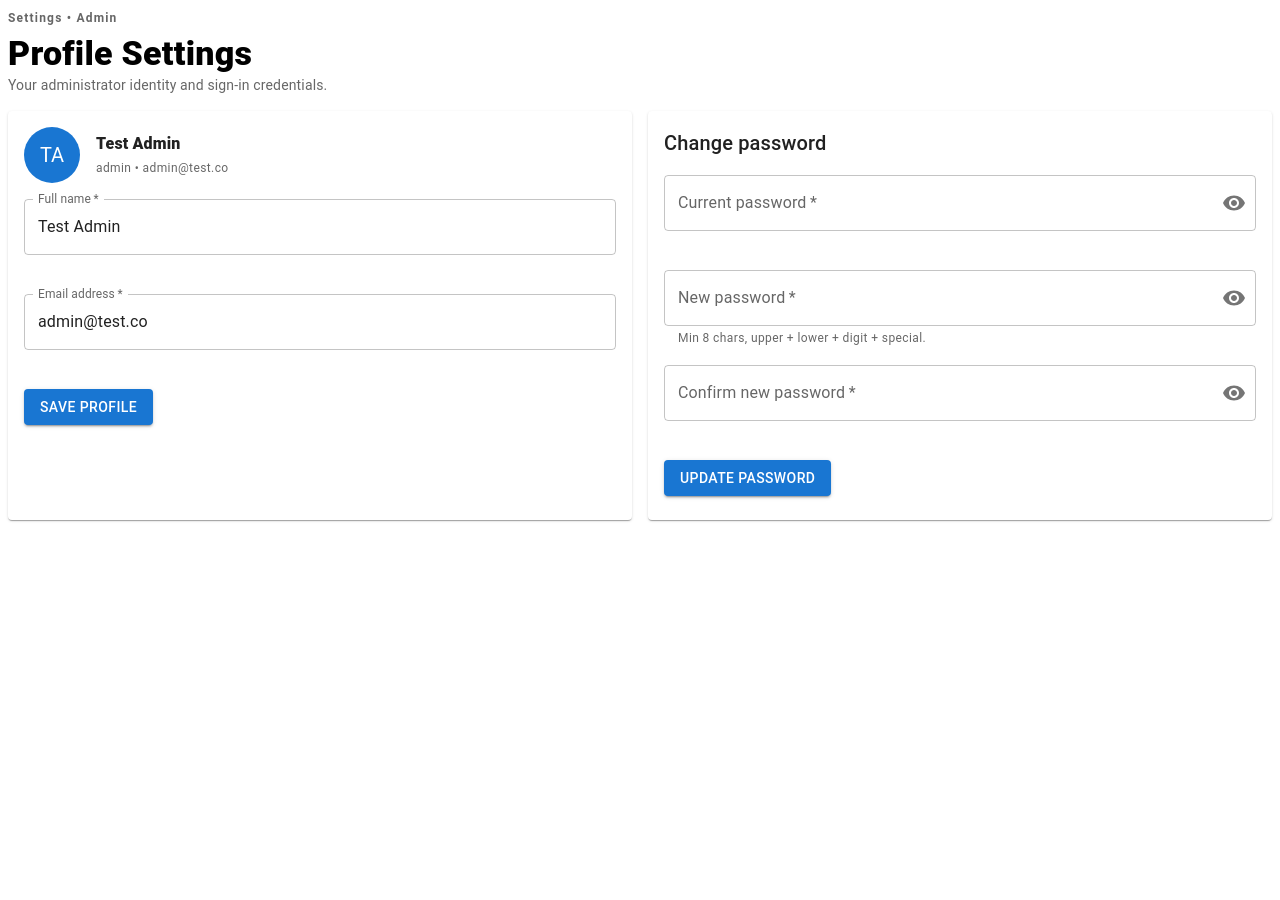
Test: ProfileSettingsPage › changes the password through the API
This screenshot has width=1280, height=900.
Type "Old-password1!" into the password field labelled "Current password *".
click(935, 203); type("Old-password1!")  # box left=664, top=175, right=1206, bottom=231
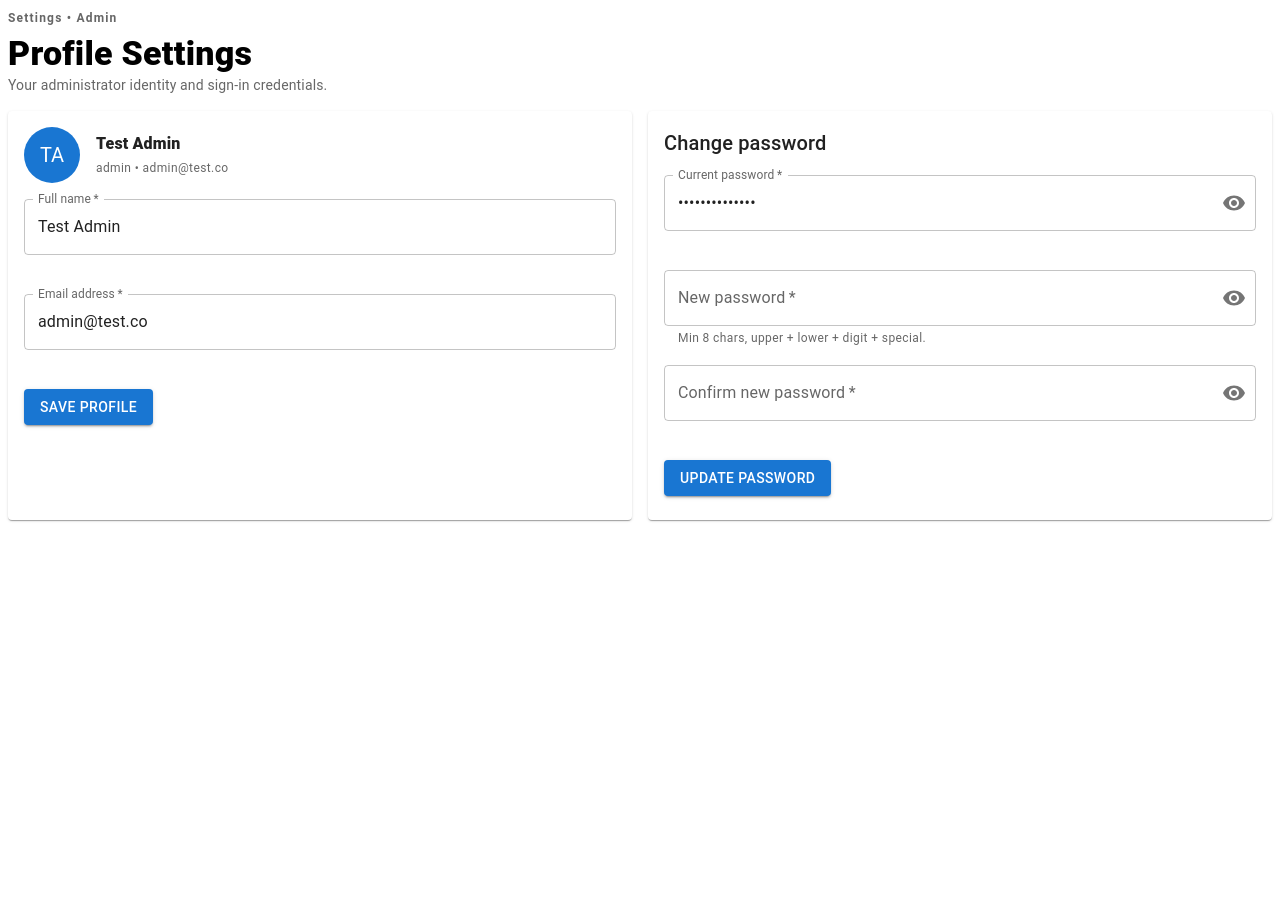
Type "New-password1!" into the password field labelled "New password *".
click(935, 298); type("New-password1!")  # box left=664, top=270, right=1206, bottom=326
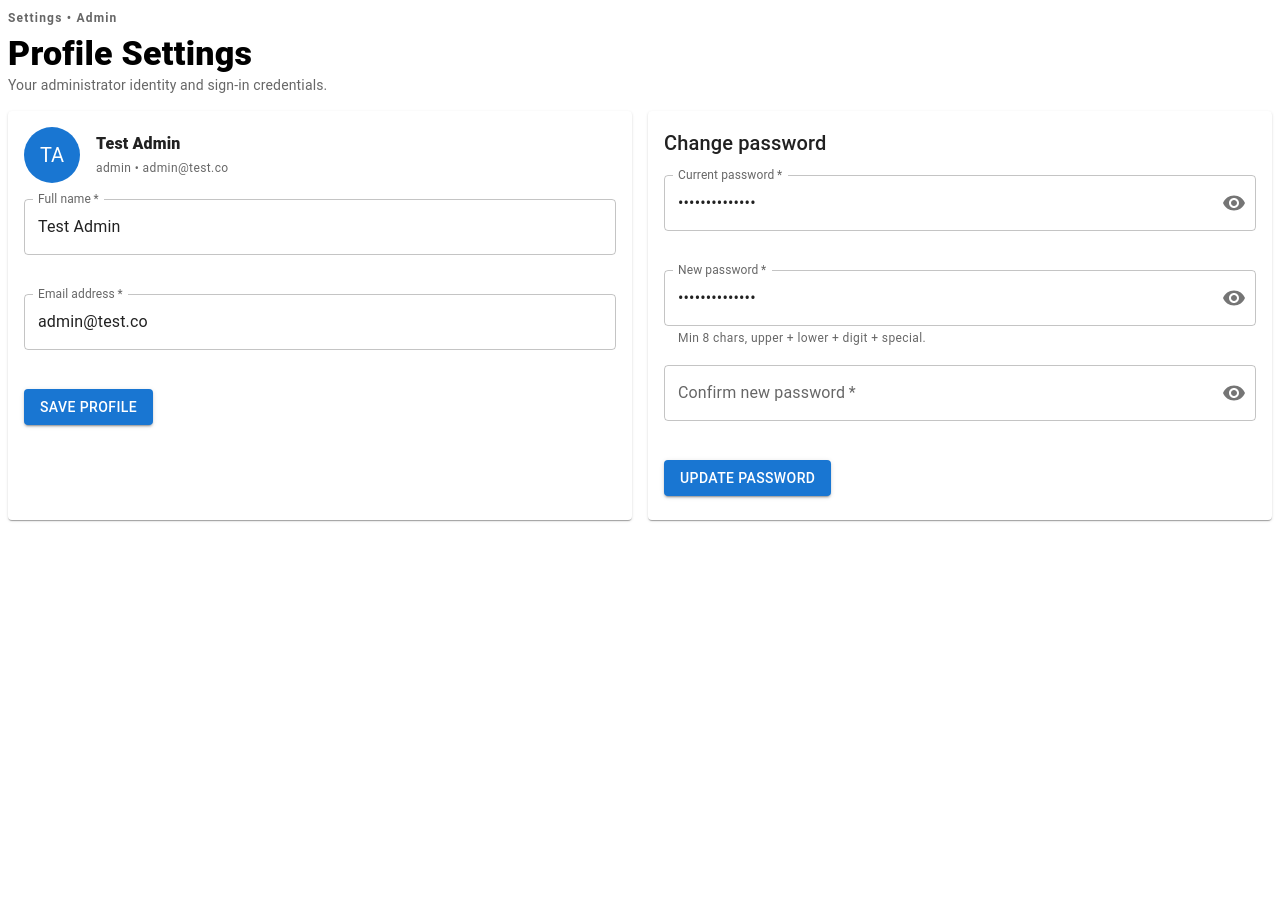
Type "New-password1!" into the password field labelled "Confirm new password *".
click(935, 393); type("New-password1!")  # box left=664, top=365, right=1206, bottom=421
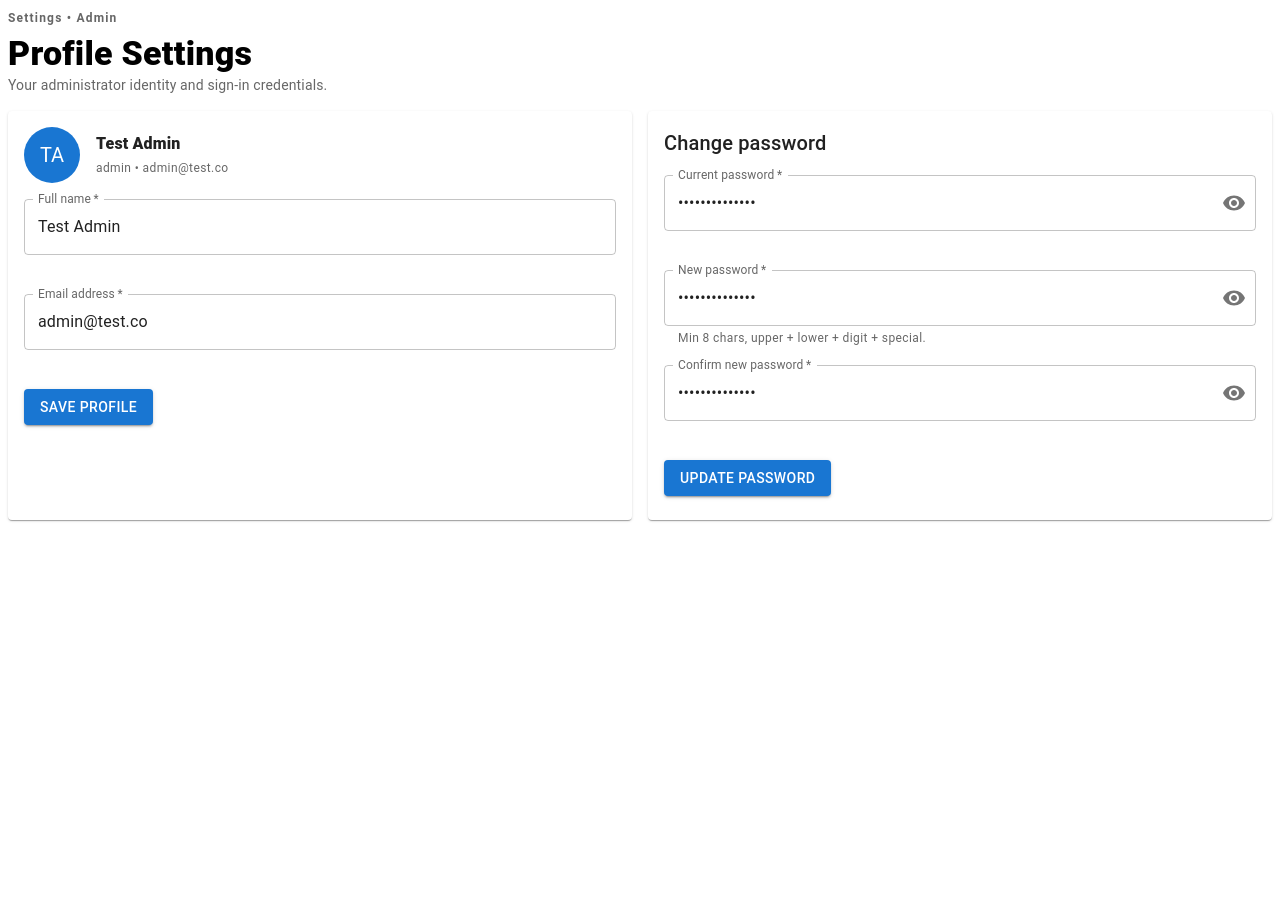
Click the button "Update password".
click(748, 478)  # box left=664, top=460, right=831, bottom=496
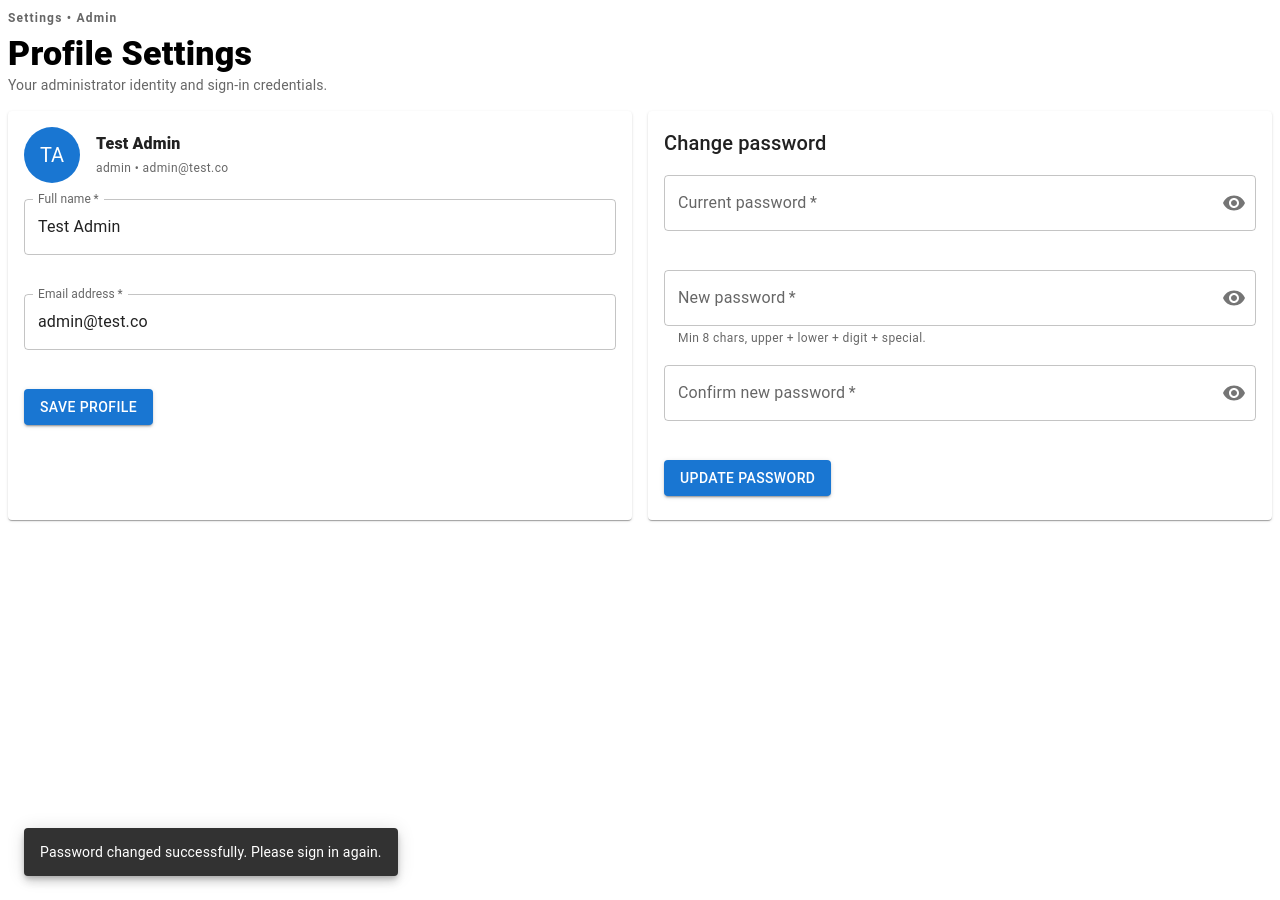
Now the text "Password changed successfully. Please sign in again." is shown, box left=40, top=844, right=382, bottom=860
